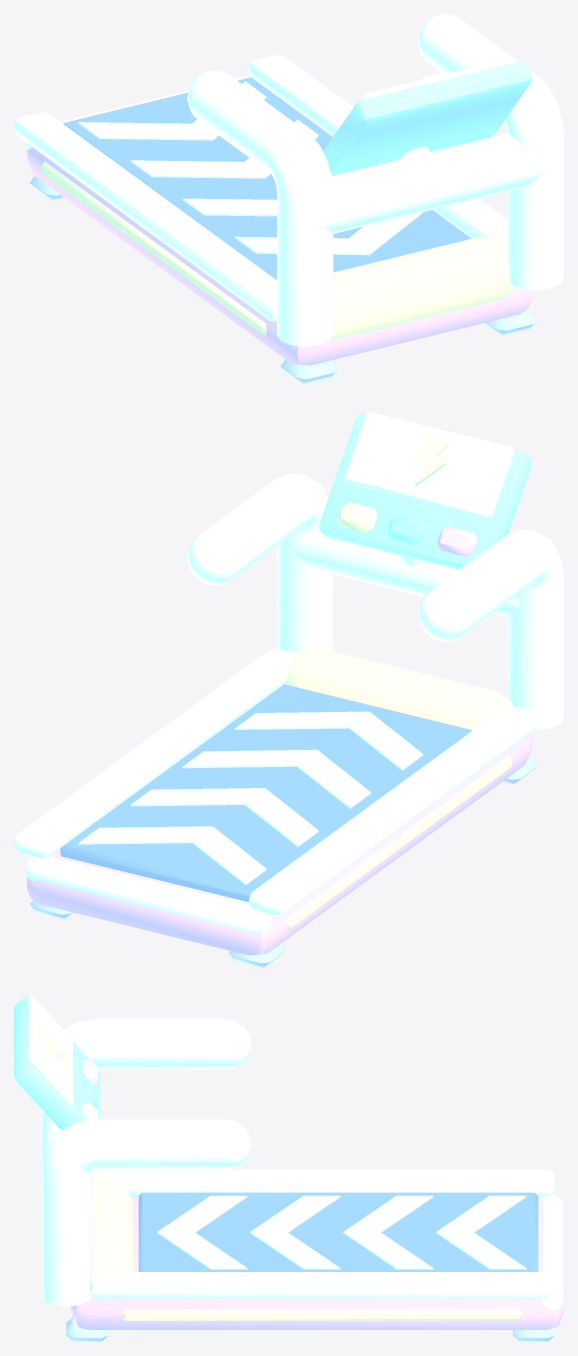
Rendered from props__CardioTreadmill.glb.
3 renders of one model, top to bottom at view 1: azimuth 30°, elevation 25°; view 2: azimuth 150°, elevation 25°; view 3: azimuth 270°, elevation 25°, orthographic. The views are drawn at different scales.
Visible parts, largest first — view 1: CardioTreadmill; view 2: CardioTreadmill; view 3: CardioTreadmill.
Part boxes in pixels (x1,y1,x2,y2): CardioTreadmill: [14, 14, 563, 383]; CardioTreadmill: [14, 412, 563, 967]; CardioTreadmill: [14, 996, 563, 1341].
Bounding box in the file's own units: 6.18 × 6.28 × 11.83.
